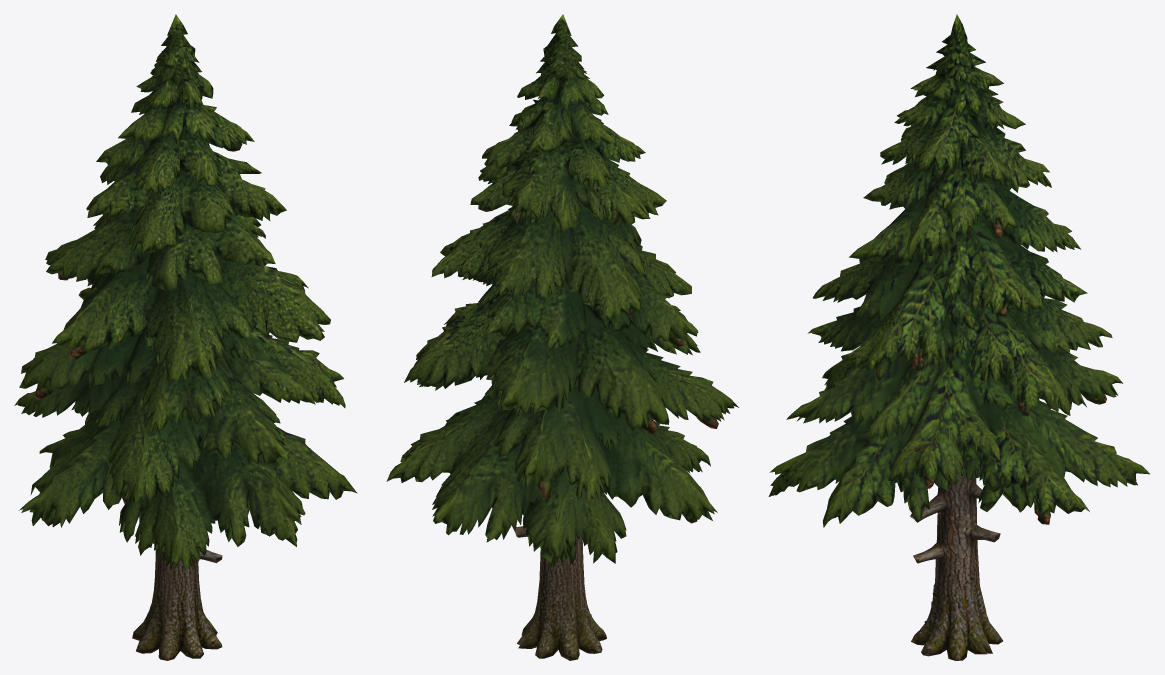
File: pine.glb
3 renders of one model, left to right at view 1: azimuth 30°, elevation 25°; view 2: azimuth 150°, elevation 25°; view 3: azimuth 270°, elevation 25°, orthographic.
Parts seen in each view (by area): view 1: tripo_node_85ad826c-f72c-44bb-a704-c2d726975fdc; view 2: tripo_node_85ad826c-f72c-44bb-a704-c2d726975fdc; view 3: tripo_node_85ad826c-f72c-44bb-a704-c2d726975fdc.
Boxes of the visible parts, box(x1,y1,x2,y2) form: tripo_node_85ad826c-f72c-44bb-a704-c2d726975fdc: box(14, 14, 357, 660); tripo_node_85ad826c-f72c-44bb-a704-c2d726975fdc: box(386, 14, 738, 660); tripo_node_85ad826c-f72c-44bb-a704-c2d726975fdc: box(768, 14, 1149, 660).
Size of the model in its own units: 0.5068 by 0.9795 by 0.5402.
1 material, 1 textured.
